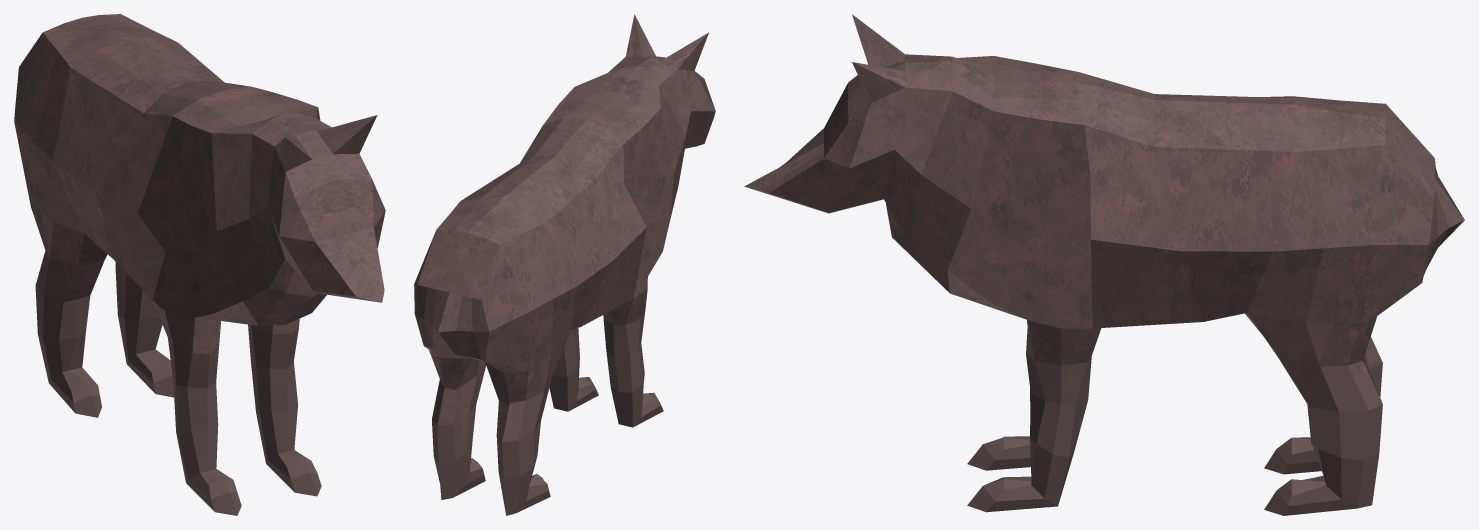
File: piesblendtex_000040.obj
3 renders of one model, left to right at view 1: azimuth 30°, elevation 25°; view 2: azimuth 150°, elevation 25°; view 3: azimuth 270°, elevation 25°, orthographic. The views are drawn at different scales.
Parts seen in each view (by area): view 1: Cube; view 2: Cube; view 3: Cube.
Boxes of the visible parts, box(x1,y1,x2,y2) form: Cube: box(14, 14, 385, 515); Cube: box(414, 14, 715, 515); Cube: box(744, 14, 1464, 515).
Size of the model in its own units: 2.56 by 6.35 by 9.19.
